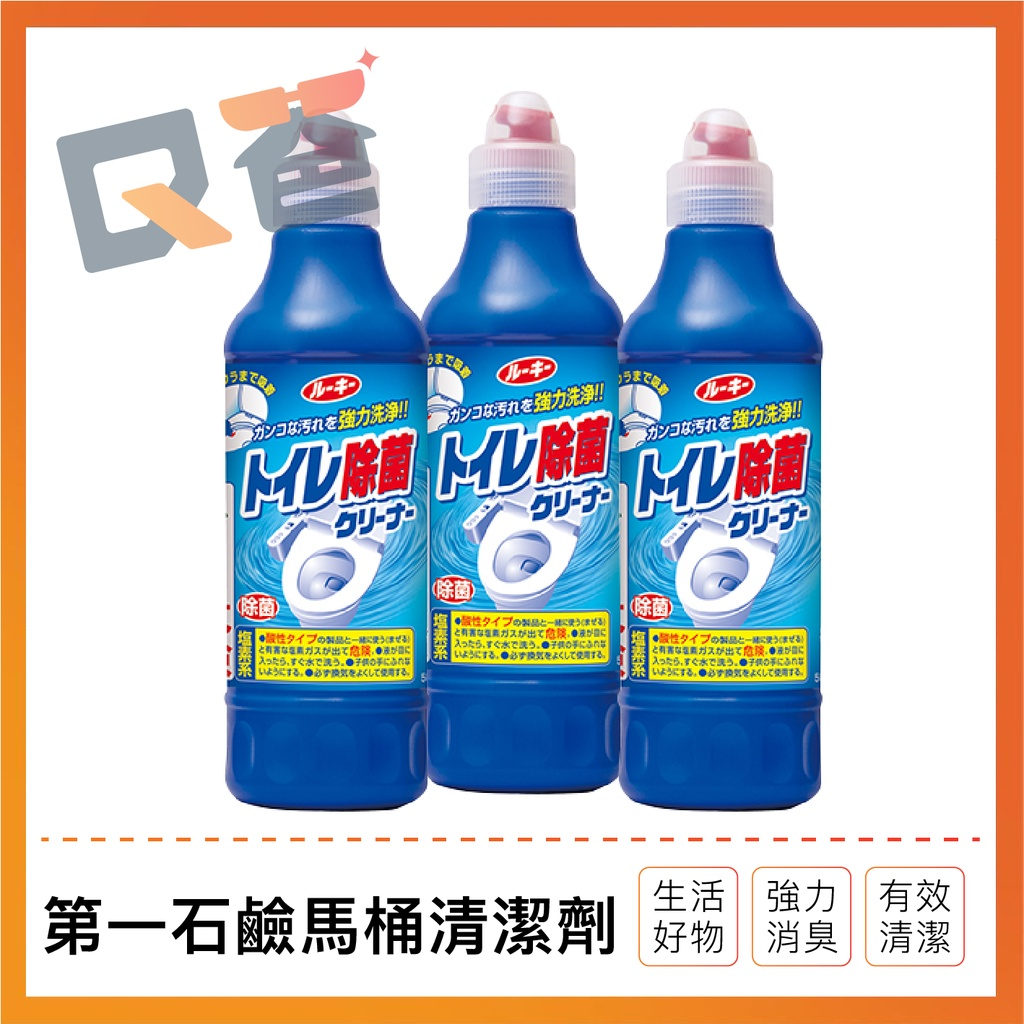cleaner: (211, 105, 438, 815), (612, 100, 829, 816), (411, 87, 622, 804)
